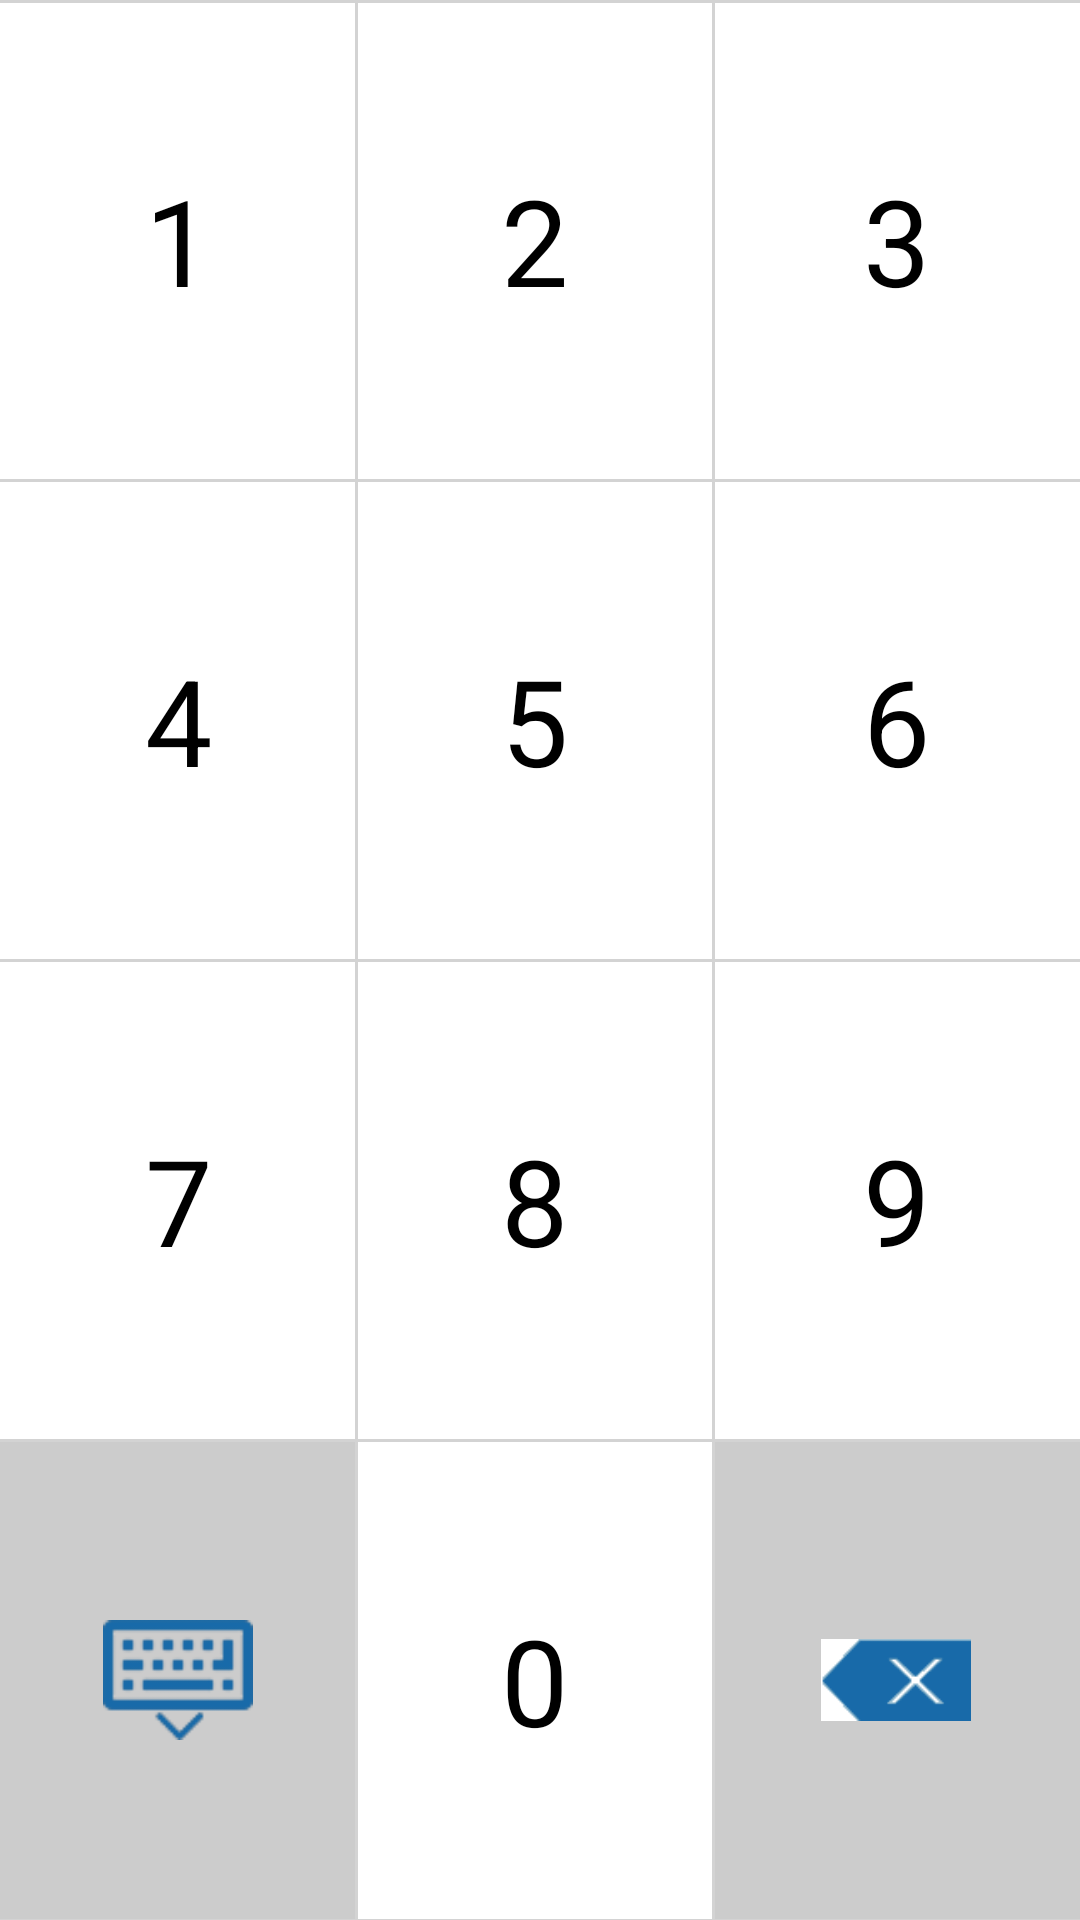

Named icons in this screenshot (1080w x 1920h) and their bounding boxes, [x1=x1, y1=y1, x2=x2, y2=y2]:
keyboard close: [x1=103, y1=1620, x2=253, y2=1740]
keyboard delete: [x1=821, y1=1639, x2=971, y2=1721]
